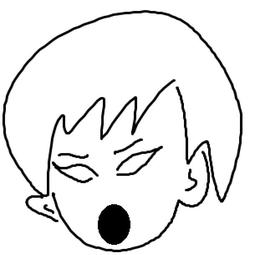ear: (24, 192, 73, 228)
empty_eye: (112, 144, 163, 177), (50, 159, 105, 188)
eyebrow: (55, 150, 91, 160)
frowning_eyebrow: (111, 135, 145, 154)
large_ear: (177, 139, 214, 211)
open_mouth: (94, 200, 131, 244)
